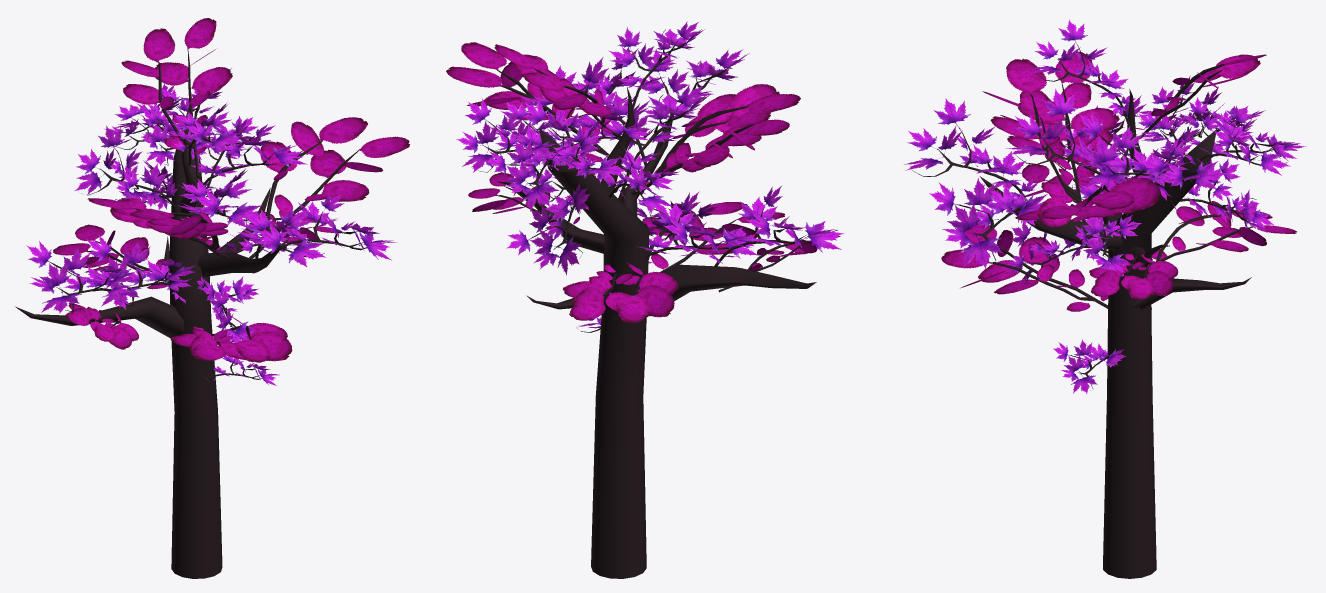
Rendered from purpletree7.fbx.
3 views of the same model, side by side, from view 1: azimuth 30°, elevation 25°; view 2: azimuth 150°, elevation 25°; view 3: azimuth 270°, elevation 25° (orthographic). The views are drawn at different scales.
Parts seen in each view (by area): view 1: purpletrees:pCylinder116; view 2: purpletrees:pCylinder116; view 3: purpletrees:pCylinder116.
Part boxes in pixels (left/top/right/bottom): purpletrees:pCylinder116: left=15, top=18, right=409, bottom=578; purpletrees:pCylinder116: left=446, top=21, right=844, bottom=578; purpletrees:pCylinder116: left=904, top=19, right=1306, bottom=578.
Bounding box in the file's own units: 24.7 × 31.62 × 22.7.
